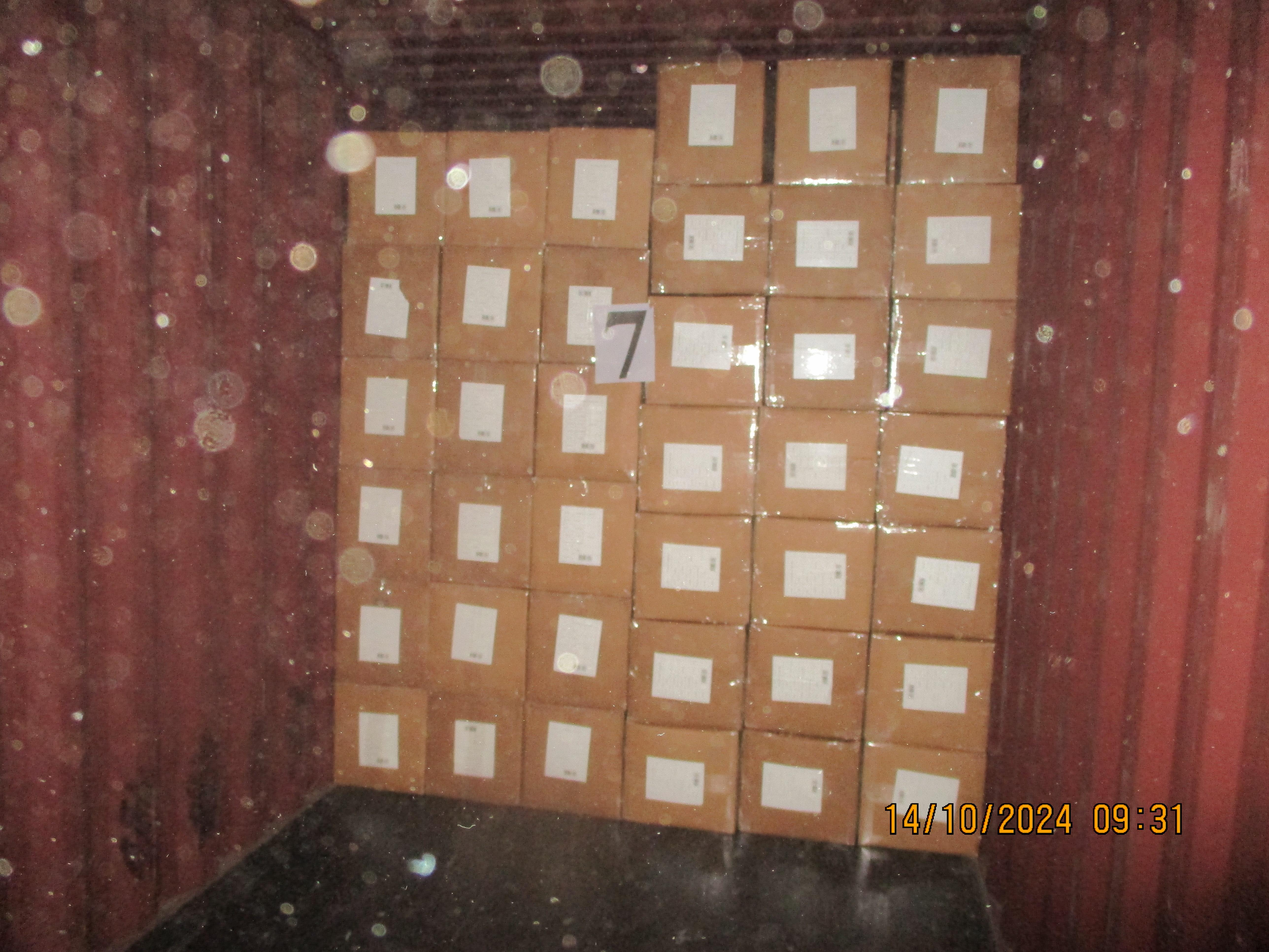carton: (899, 54, 1020, 184), (863, 633, 994, 752), (772, 57, 891, 185), (887, 298, 1017, 415), (891, 183, 1020, 299), (876, 412, 1005, 528), (871, 525, 1001, 639), (750, 516, 876, 631), (743, 624, 868, 739), (768, 184, 894, 298), (753, 408, 879, 522), (858, 742, 985, 855), (764, 296, 889, 409), (654, 60, 766, 185), (738, 730, 860, 844), (633, 512, 752, 624), (650, 184, 770, 295), (637, 404, 757, 515), (646, 295, 766, 406), (544, 127, 654, 248), (621, 721, 739, 833), (627, 619, 746, 730), (539, 245, 649, 364), (529, 477, 636, 596), (534, 363, 641, 481), (525, 590, 630, 710), (340, 130, 447, 246), (443, 130, 549, 247), (437, 245, 543, 361), (424, 582, 528, 700), (432, 359, 537, 475), (520, 701, 623, 818), (430, 473, 532, 588), (341, 244, 441, 358), (425, 693, 524, 806), (338, 357, 436, 470), (335, 467, 432, 581), (334, 577, 430, 687), (334, 682, 427, 794)
